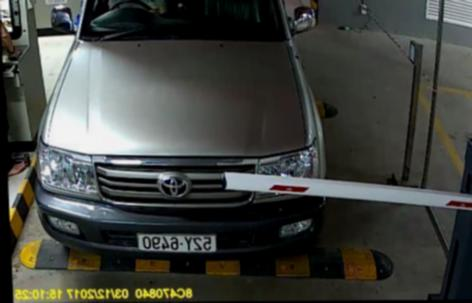License_Plate: (136, 227, 219, 253)
